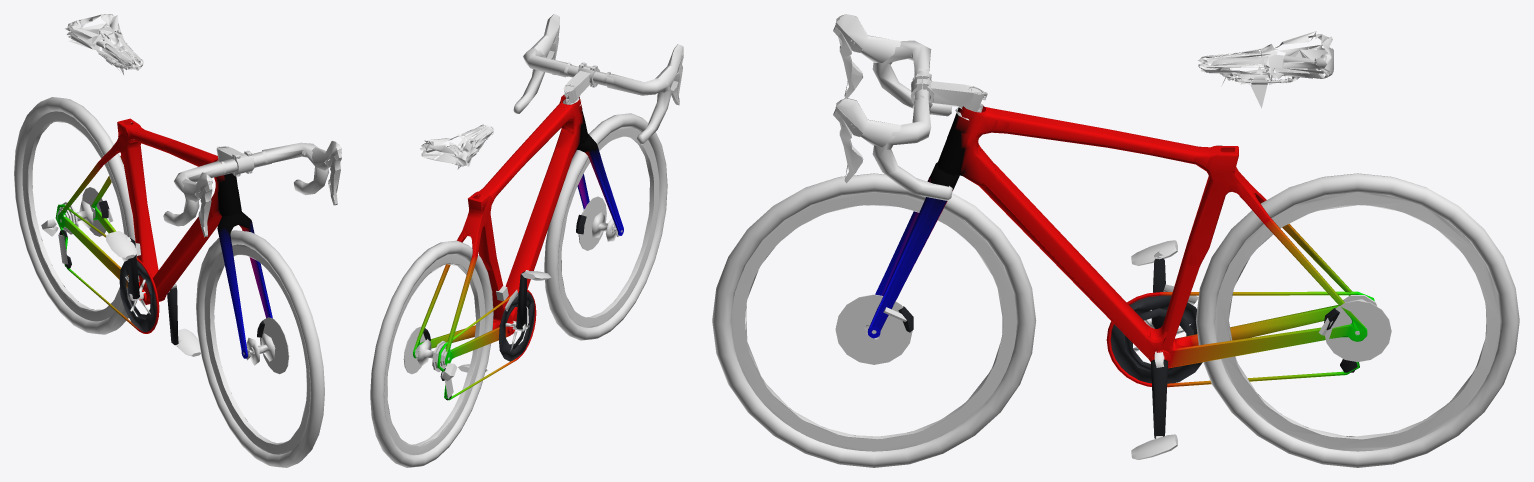
The model's file is gravel_lod1.glb.
3 renders of one model, left to right at view 1: azimuth 30°, elevation 25°; view 2: azimuth 150°, elevation 25°; view 3: azimuth 270°, elevation 25°, orthographic. The views are drawn at different scales.
Visible parts, largest first — view 1: frame, wheel_front, wheel_rear, cockpit, crankset, saddle, pedal_R, opt_derailleur, pedal_L; view 2: frame, wheel_rear, wheel_front, cockpit, crankset, saddle, opt_derailleur; view 3: frame, wheel_front, wheel_rear, cockpit, crankset, saddle.
Part boxes in pixels (left/top/right/bottom): frame: left=55, top=118, right=272, bottom=358; wheel_front: left=196, top=230, right=324, bottom=467; wheel_rear: left=14, top=97, right=139, bottom=334; cockpit: left=163, top=141, right=341, bottom=237; crankset: left=119, top=238, right=178, bottom=345; saddle: left=65, top=14, right=143, bottom=74; pedal_R: left=106, top=231, right=137, bottom=259; opt_derailleur: left=41, top=219, right=140, bottom=268; pedal_L: left=176, top=328, right=200, bottom=356; frame: left=413, top=95, right=623, bottom=400; wheel_rear: left=370, top=240, right=493, bottom=467; wheel_front: left=544, top=113, right=667, bottom=340; cockpit: left=513, top=14, right=683, bottom=144; crankset: left=485, top=271, right=534, bottom=370; saddle: left=420, top=124, right=494, bottom=169; opt_derailleur: left=440, top=286, right=517, bottom=400; frame: left=867, top=106, right=1374, bottom=387; wheel_front: left=712, top=173, right=1036, bottom=467; wheel_rear: left=1195, top=173, right=1519, bottom=467; cockpit: left=833, top=14, right=987, bottom=200; crankset: left=1111, top=258, right=1202, bottom=438; saddle: left=1198, top=31, right=1333, bottom=108.
Size of the model in its own units: 0.4512 by 0.9675 by 1.67.
